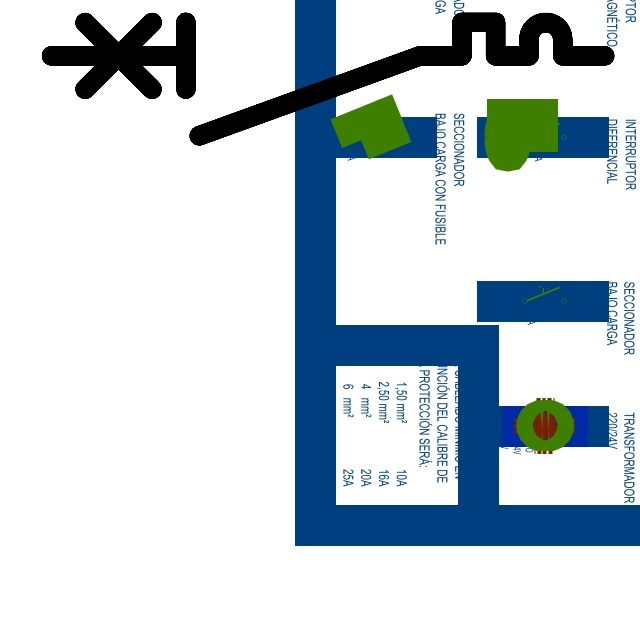interruptor_termomagnetico: (37, 8, 619, 150)
